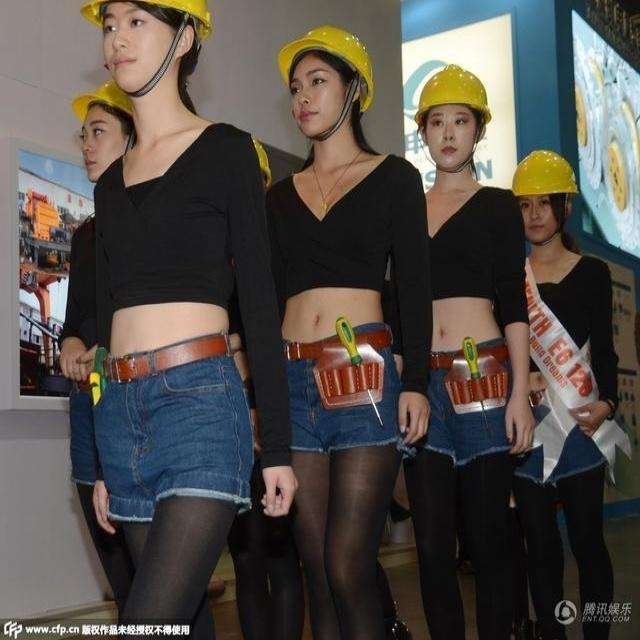helmet: (271, 25, 381, 194), (77, 3, 211, 129), (415, 82, 494, 234), (71, 94, 144, 242), (504, 198, 581, 330)
